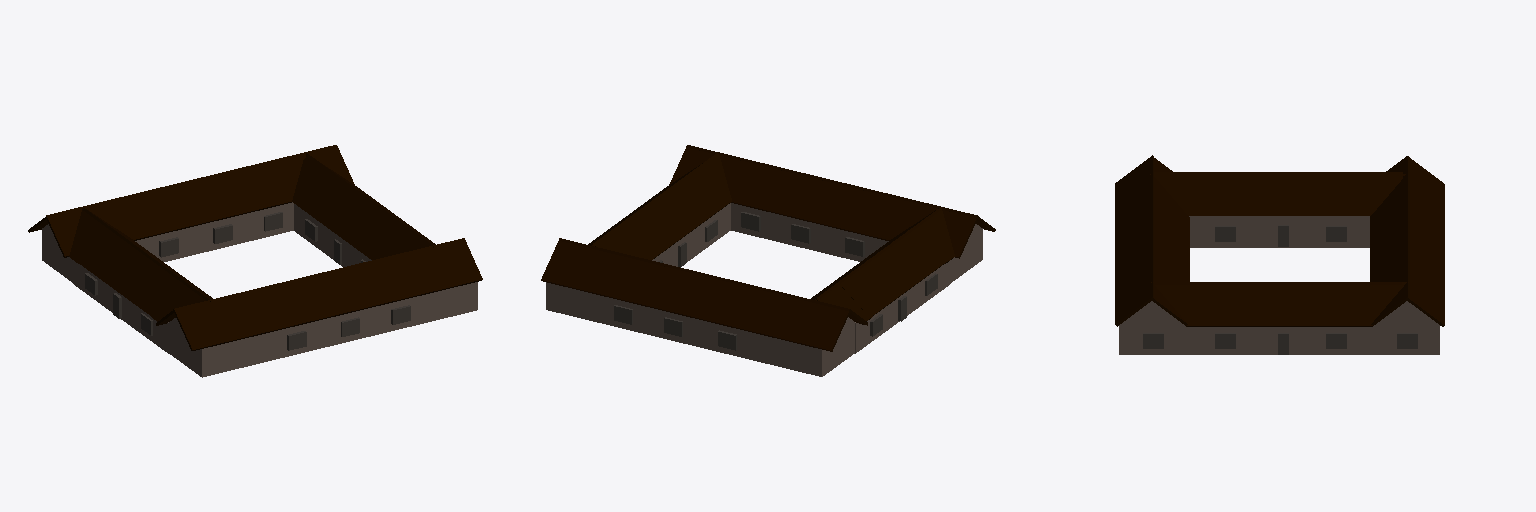
Rendered from villa_norse.obj.
3 renders of one model, left to right at view 1: azimuth 30°, elevation 25°; view 2: azimuth 150°, elevation 25°; view 3: azimuth 270°, elevation 25°, orthographic.
Parts seen in each view (by area): view 1: mesh[number redacted].001, mesh[number redacted], mesh[number redacted].002, mesh[number redacted], mesh[number redacted].002_mesh[number redacted].004, mesh[number redacted], mesh[number redacted].002, mesh[number redacted], mesh[number redacted].001, mesh[number redacted].001_mesh[number redacted].005; view 2: mesh[number redacted], mesh[number redacted].001, mesh[number redacted], mesh[number redacted], mesh[number redacted].002_mesh[number redacted].004, mesh[number redacted].002, mesh[number redacted].002, mesh[number redacted], mesh[number redacted], mesh[number redacted].001, mesh[number redacted].001, mesh[number redacted].001_mesh[number redacted].005 (+1 smaller); view 3: mesh[number redacted].001, mesh[number redacted], mesh[number redacted].001, mesh[number redacted], mesh[number redacted].002, mesh[number redacted], mesh[number redacted], mesh[number redacted].001, mesh[number redacted].002, mesh[number redacted], mesh[number redacted].004, mesh[number redacted] (+1 smaller).
Boxes of the visible parts, x1,y1,x2,y2 form: mesh[number redacted].001: [173, 238, 482, 350]; mesh[number redacted]: [46, 145, 354, 257]; mesh[number redacted].002: [169, 282, 477, 377]; mesh[number redacted]: [292, 154, 432, 259]; mesh[number redacted].002_mesh[number redacted].004: [75, 227, 187, 320]; mesh[number redacted]: [42, 202, 293, 282]; mesh[number redacted].002: [73, 260, 168, 353]; mesh[number redacted]: [294, 204, 371, 266]; mesh[number redacted].001: [83, 208, 212, 300]; mesh[number redacted].001_mesh[number redacted].005: [69, 208, 104, 263]; mesh[number redacted]: [541, 241, 849, 351]; mesh[number redacted].001: [669, 147, 976, 258]; mesh[number redacted]: [546, 282, 854, 376]; mesh[number redacted]: [592, 153, 731, 259]; mesh[number redacted].002_mesh[number redacted].004: [840, 224, 952, 317]; mesh[number redacted].002: [731, 203, 982, 282]; mesh[number redacted].002: [855, 260, 950, 353]; mesh[number redacted]: [652, 203, 730, 266]; mesh[number redacted]: [559, 238, 867, 325]; mesh[number redacted].001: [686, 145, 995, 231]; mesh[number redacted].001: [811, 207, 941, 300]; mesh[number redacted].001_mesh[number redacted].005: [815, 285, 872, 324]; mesh[number redacted].001: [1154, 172, 1402, 215]; mesh[number redacted]: [1192, 285, 1372, 326]; mesh[number redacted].001: [1115, 155, 1153, 326]; mesh[number redacted]: [1406, 158, 1444, 326]; mesh[number redacted].002: [1189, 216, 1369, 247]; mesh[number redacted]: [1184, 325, 1374, 354]; mesh[number redacted]: [1370, 156, 1409, 325]; mesh[number redacted].001: [1151, 158, 1189, 326]; mesh[number redacted].002: [1119, 301, 1183, 354]; mesh[number redacted]: [1375, 301, 1439, 354]; mesh[number redacted].004: [1150, 282, 1191, 326]; mesh[number redacted]: [1153, 282, 1401, 284].
Size of the model in its own units: 1.46 by 0.2871 by 1.43.